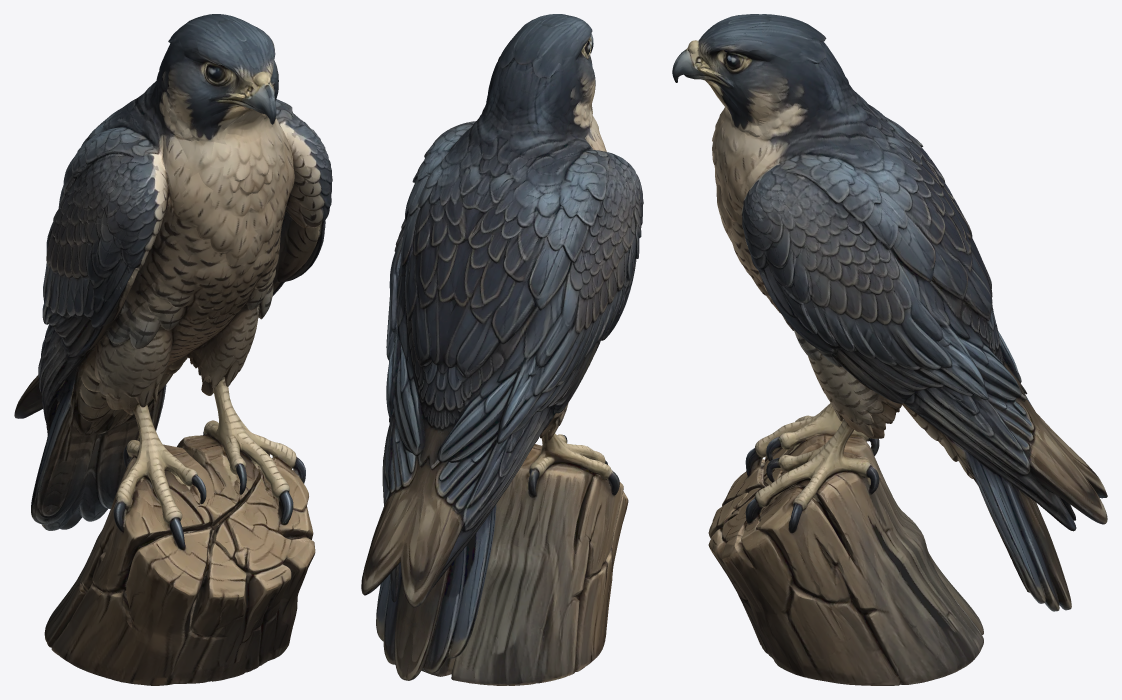
The model's file is falcon.glb.
3 views of the same model, side by side, from view 1: azimuth 30°, elevation 25°; view 2: azimuth 150°, elevation 25°; view 3: azimuth 270°, elevation 25° (orthographic). The views are drawn at different scales.
Parts seen in each view (by area): view 1: output_unwrapped; view 2: output_unwrapped; view 3: output_unwrapped.
Part boxes in pixels (left/top/right/bottom): output_unwrapped: left=14, top=14, right=332, bottom=685; output_unwrapped: left=361, top=14, right=643, bottom=685; output_unwrapped: left=672, top=14, right=1107, bottom=685.
Size of the model in its own units: 0.6996 by 1.9 by 1.21.
1 material, 1 textured.
